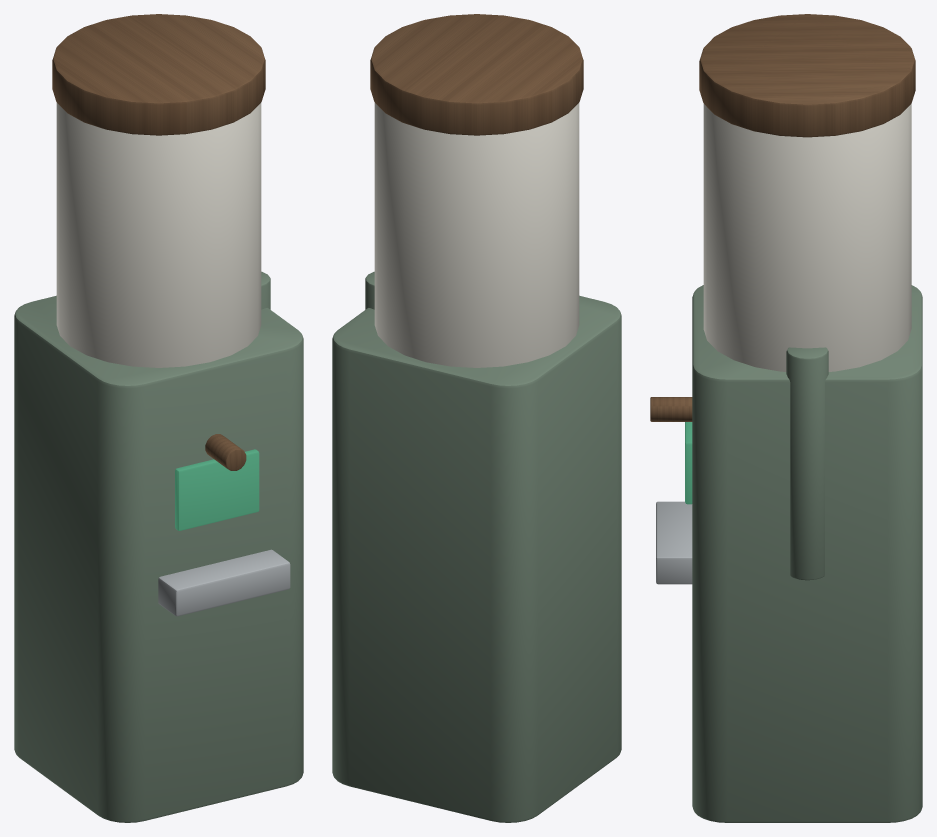
Rendered from water_cooler_high_end.glb.
3 views of the same model, side by side, from view 1: azimuth 30°, elevation 25°; view 2: azimuth 150°, elevation 25°; view 3: azimuth 270°, elevation 25° (orthographic).
Visible parts, largest first — view 1: WaterCooler_Cabinet, WaterCooler_Tank, WaterCooler_Lid, WaterCooler_DrainTray, WaterCooler_FilterScreen, WaterCooler_Spigot; view 2: WaterCooler_Cabinet, WaterCooler_Tank, WaterCooler_Lid; view 3: WaterCooler_Cabinet, WaterCooler_Tank, WaterCooler_Lid, WaterCooler_CupDispenser, WaterCooler_DrainTray, WaterCooler_Spigot, WaterCooler_FilterScreen.
Part boxes in pixels (x1=…): WaterCooler_Cabinet: x1=14, y1=295, x2=303, y2=822; WaterCooler_Tank: x1=56, y1=103, x2=261, y2=367; WaterCooler_Lid: x1=52, y1=14, x2=265, y2=135; WaterCooler_DrainTray: x1=158, y1=549, x2=290, y2=616; WaterCooler_FilterScreen: x1=175, y1=449, x2=259, y2=530; WaterCooler_Spigot: x1=205, y1=434, x2=246, y2=470; WaterCooler_Cabinet: x1=332, y1=295, x2=621, y2=822; WaterCooler_Tank: x1=374, y1=103, x2=579, y2=367; WaterCooler_Lid: x1=370, y1=14, x2=583, y2=135; WaterCooler_Cabinet: x1=692, y1=285, x2=922, y2=822; WaterCooler_Tank: x1=703, y1=103, x2=911, y2=371; WaterCooler_Lid: x1=699, y1=14, x2=915, y2=137; WaterCooler_CupDispenser: x1=786, y1=347, x2=828, y2=580; WaterCooler_DrainTray: x1=656, y1=501, x2=692, y2=584; WaterCooler_Spigot: x1=650, y1=397, x2=692, y2=421; WaterCooler_FilterScreen: x1=685, y1=422, x2=692, y2=504.
Size of what is drawn, in the model's own units: 0.49 by 1.57 by 0.5432.
5 materials, 1 textured.
